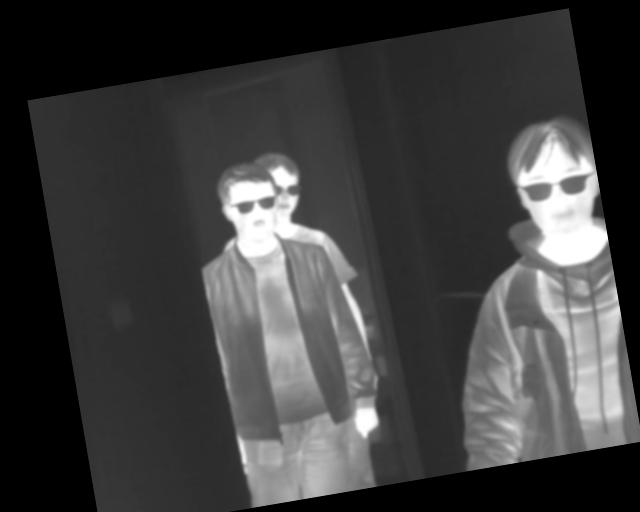face: (501, 109, 606, 250), (215, 158, 283, 245), (256, 147, 307, 221)
